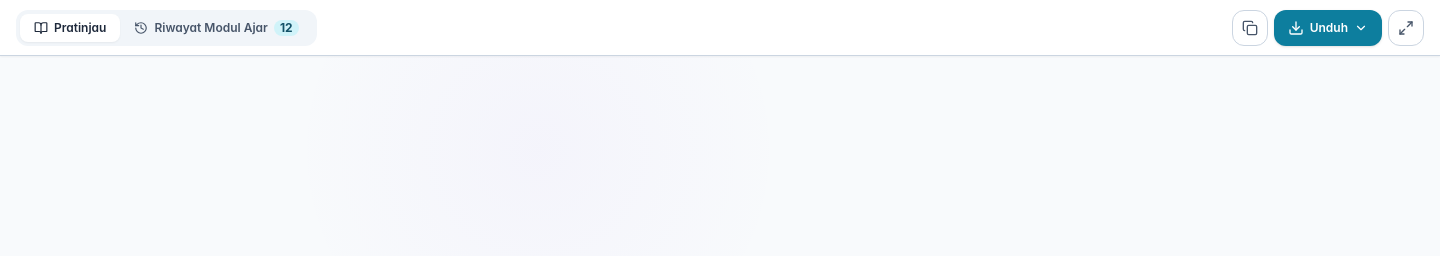
Test: ModulAjarToolbar › offers PDF, Word, print, and the phone-only extras in a single menu
Step 1. Click the button "Unduh" → (1328, 28), box left=1274, top=10, right=1382, bottom=46
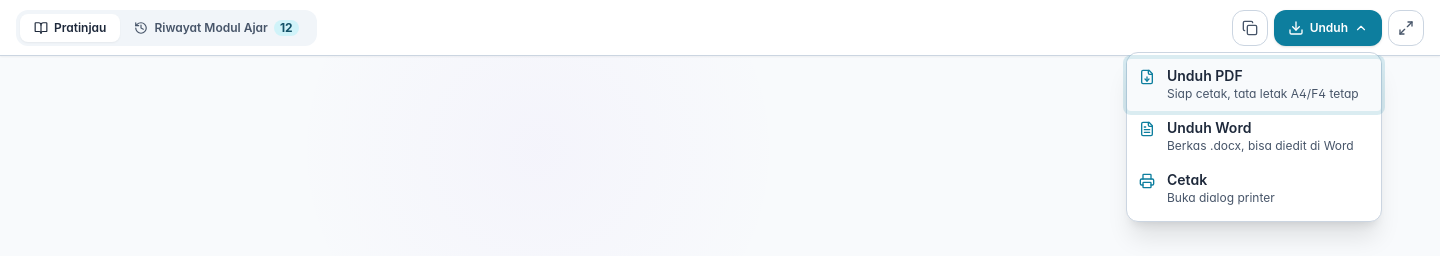
Check: the text "Berkas .docx, bisa diedit di Word" is shown, box left=1167, top=138, right=1354, bottom=154
